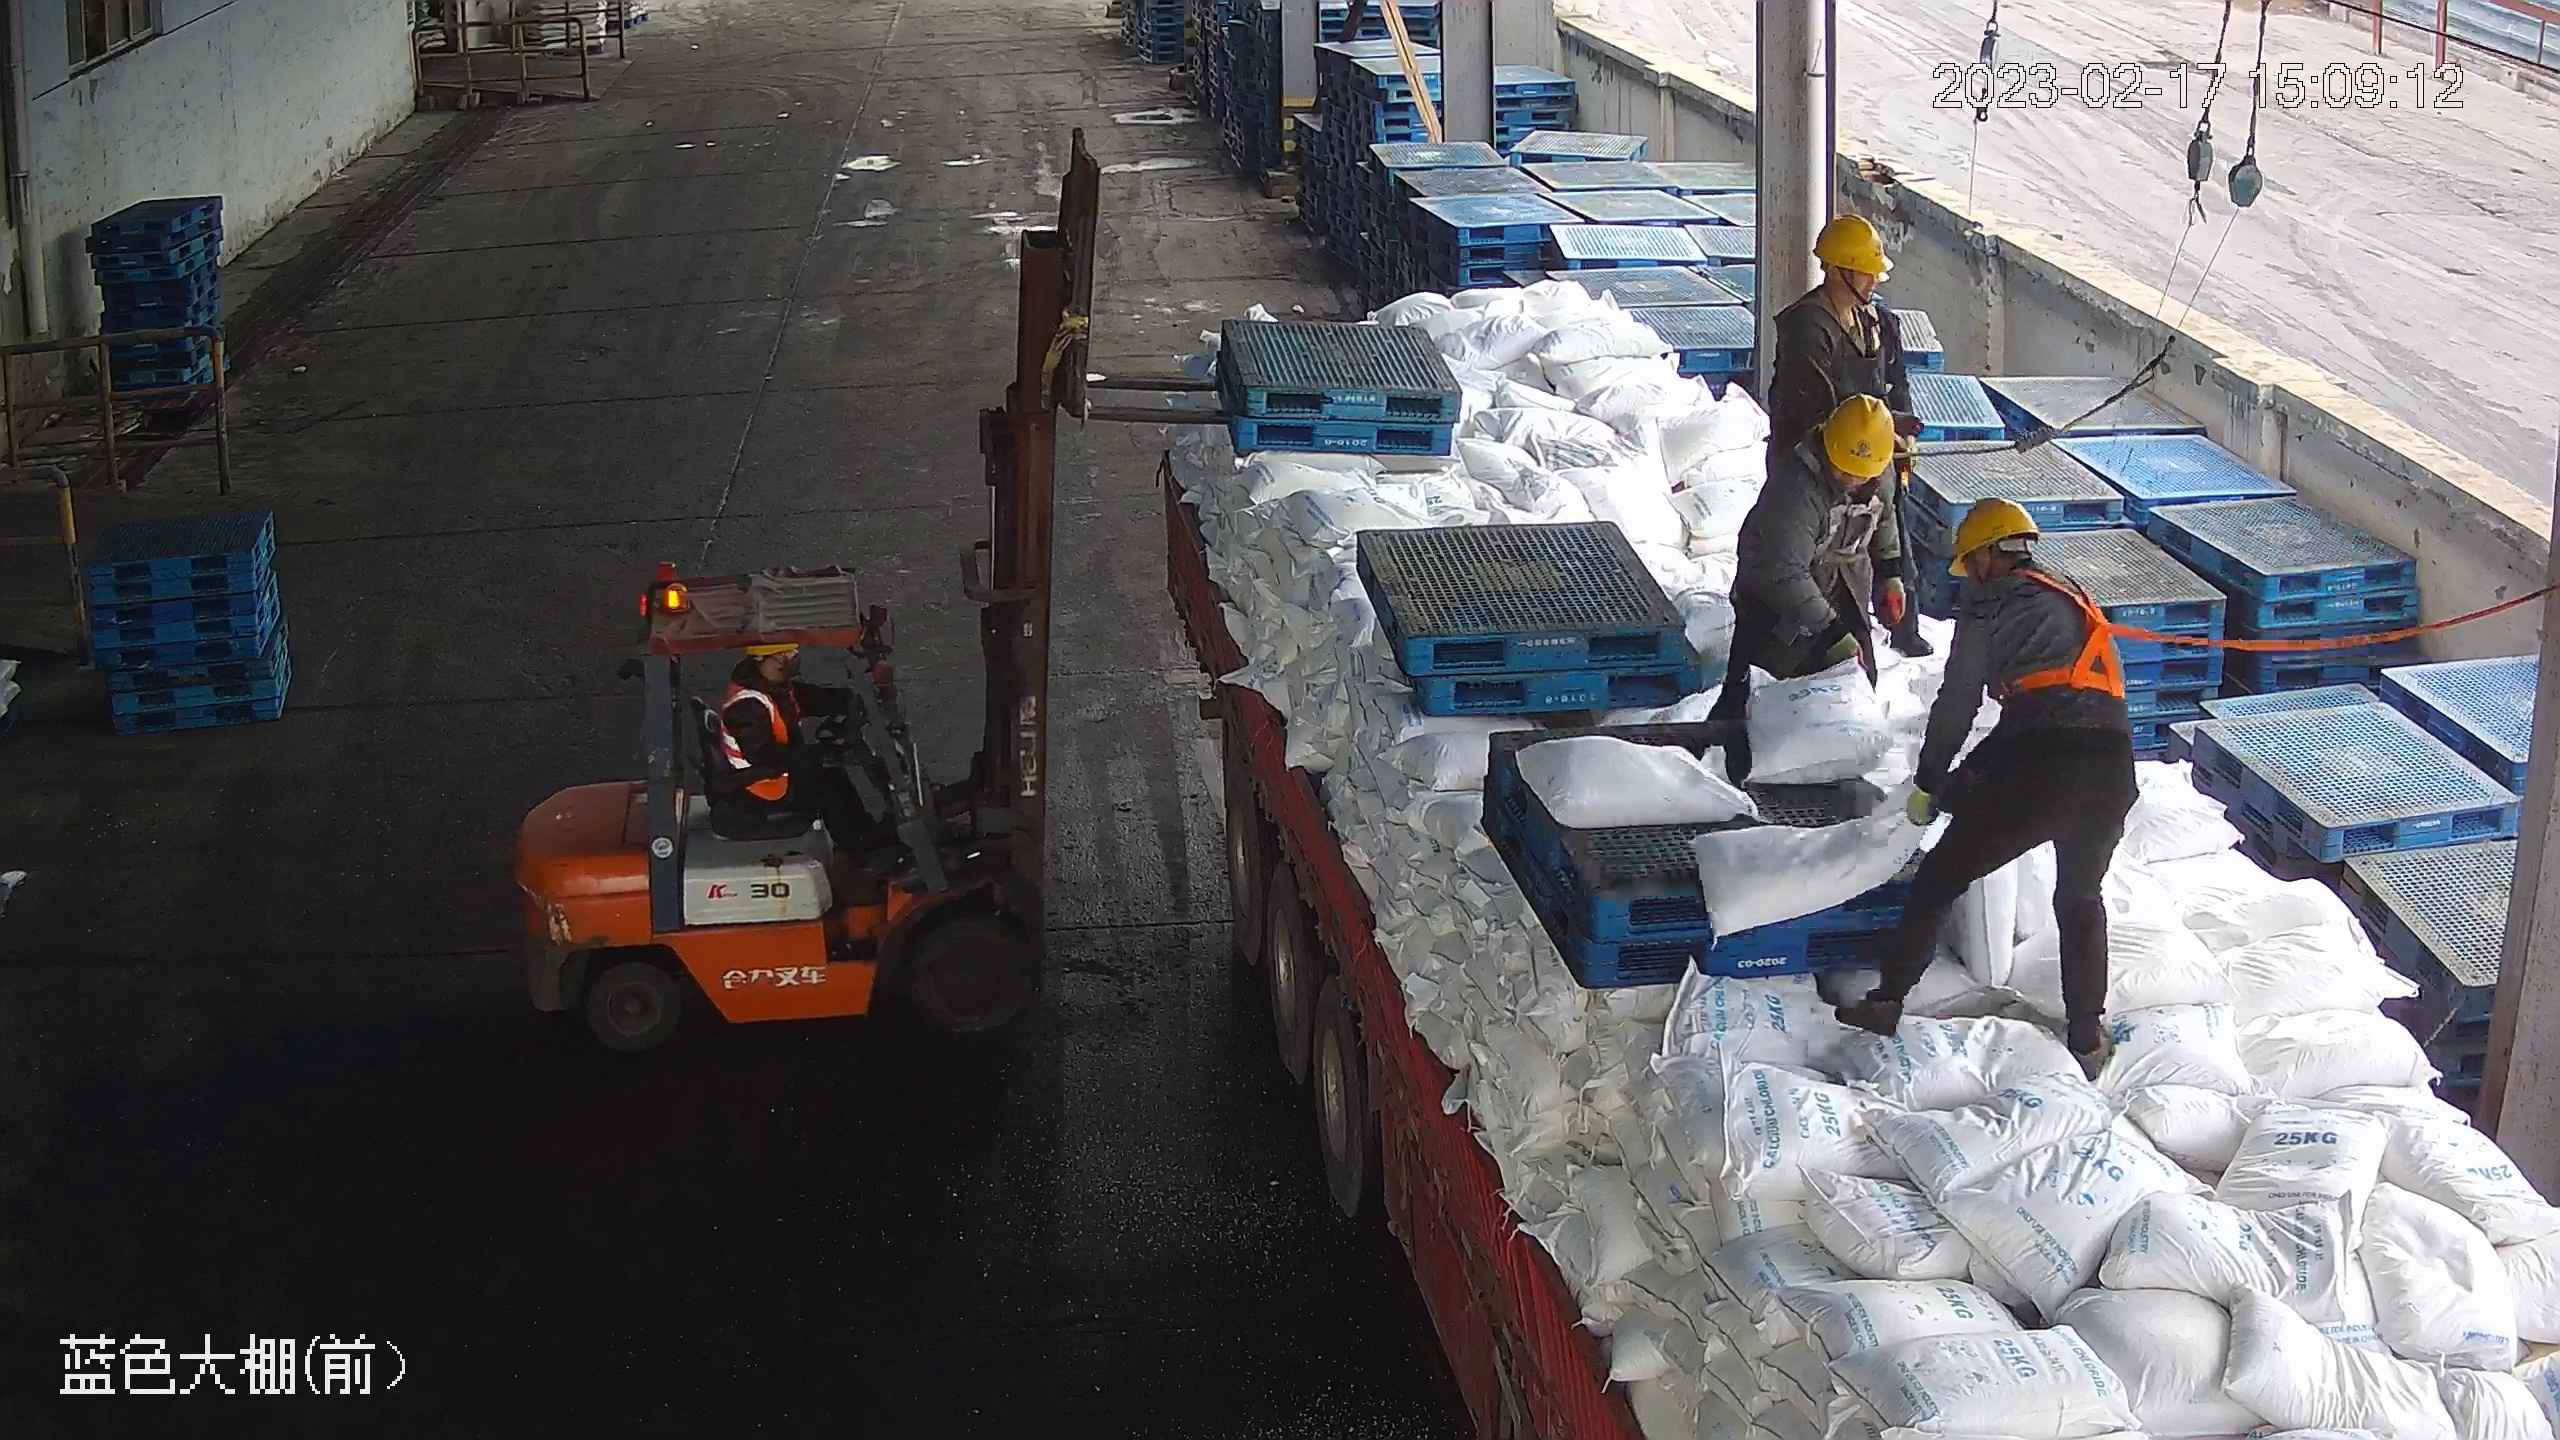belt: (2000, 556, 2156, 708), (1781, 445, 1897, 565), (1787, 295, 1901, 355)
head: (1927, 501, 2113, 684), (1767, 209, 1909, 377), (1747, 391, 1900, 528), (713, 645, 844, 754)
helmet: (1948, 497, 2038, 577), (1822, 393, 1897, 477), (1813, 211, 1894, 275)
people: (1832, 501, 2140, 1089), (1769, 211, 1935, 659), (1705, 389, 1903, 740), (718, 642, 944, 881)
truck: (1154, 411, 2560, 1440)
